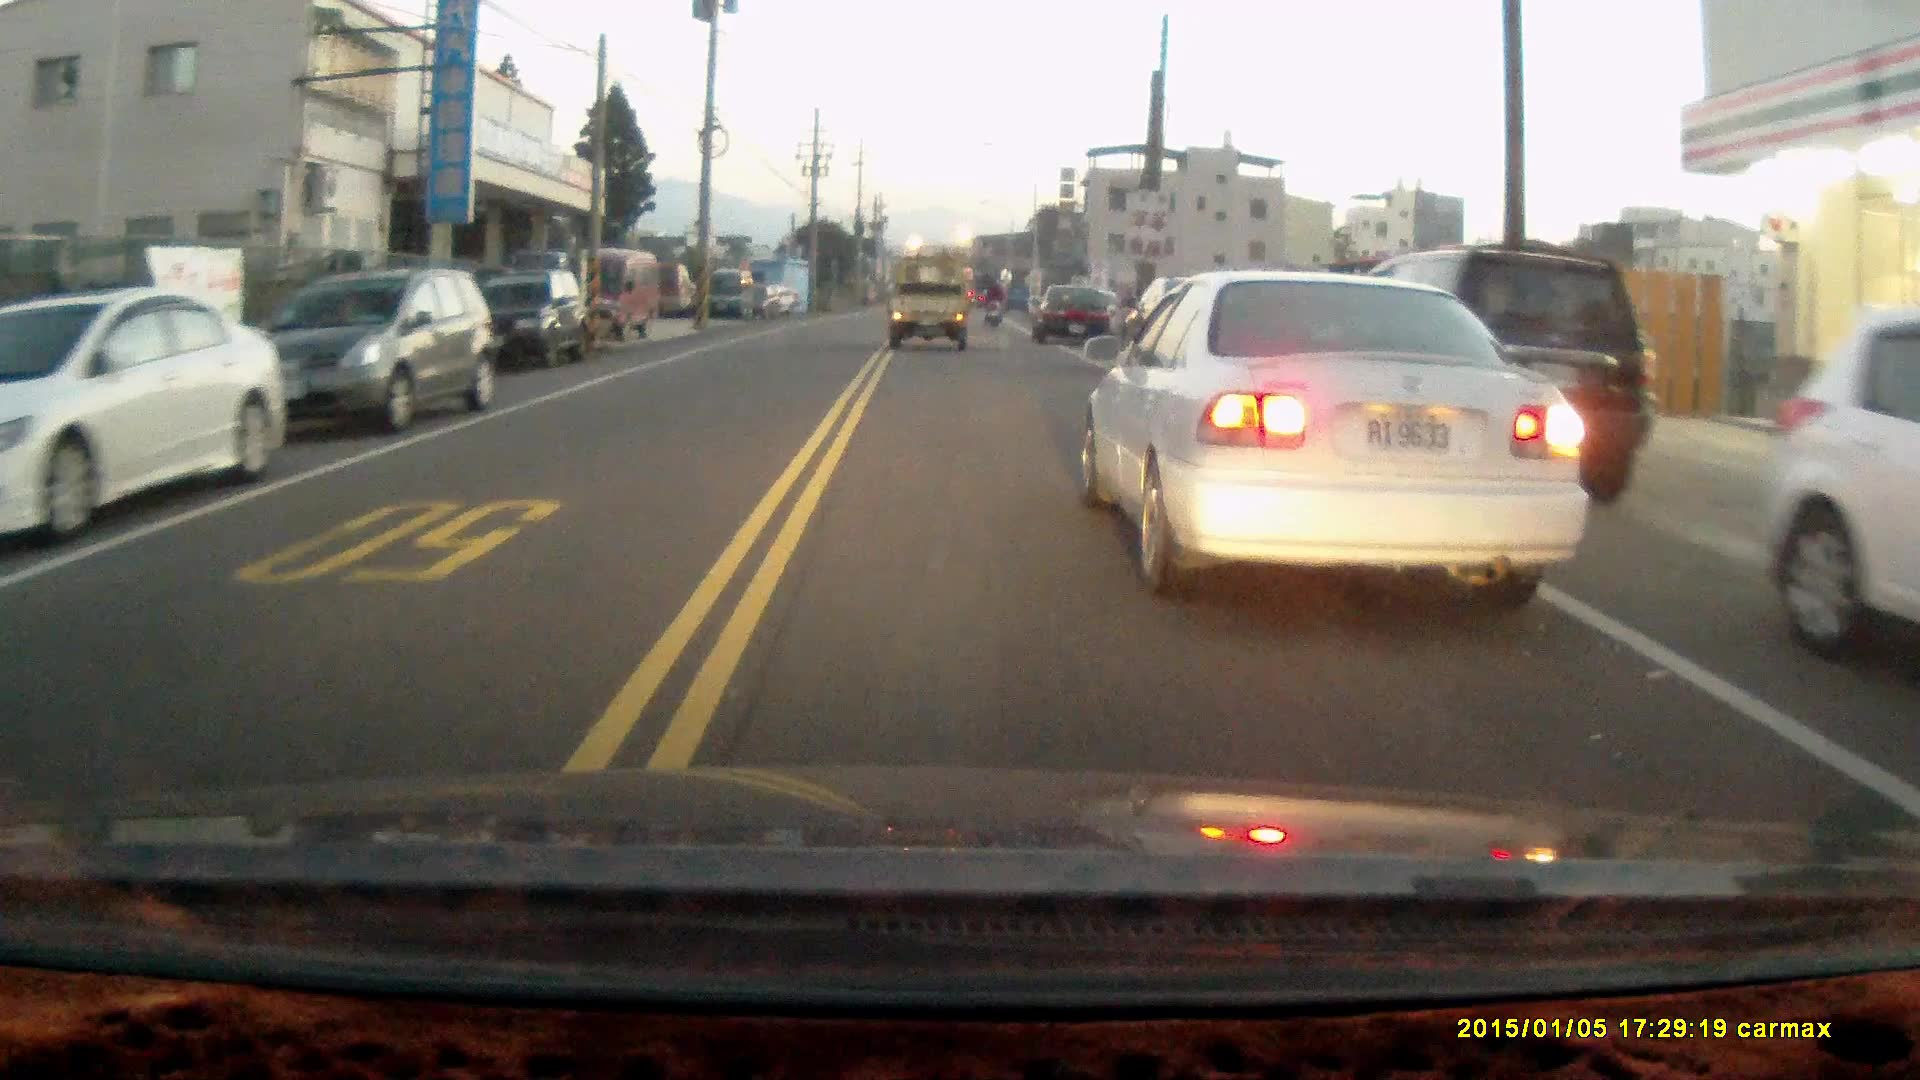rider: (980, 281, 1007, 329)
vehicle: (1078, 269, 1587, 598), (1361, 243, 1651, 496), (3, 291, 287, 536), (1767, 301, 1920, 658), (247, 269, 498, 436), (477, 271, 596, 373), (558, 247, 663, 340), (890, 266, 977, 366), (1036, 285, 1122, 346), (703, 272, 758, 324)
